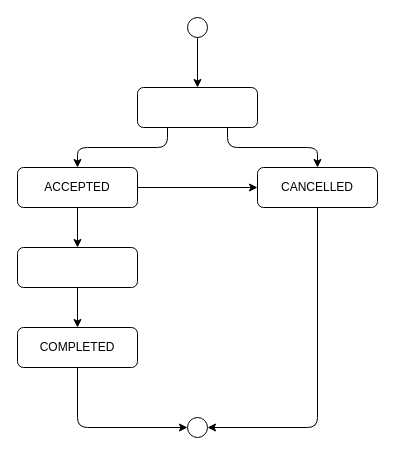
The diagram is 395 pixels wide and 455 high, and some of its shapes have lost their labels. The centre of each missing label's shape, as x and y in pixels:
"IN_PROGRESS" goes at (77,267).
"REQUESTED" goes at (197,107).
